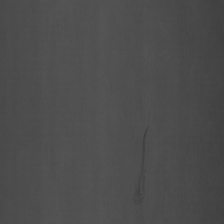water_spot: (130, 123, 157, 209)
